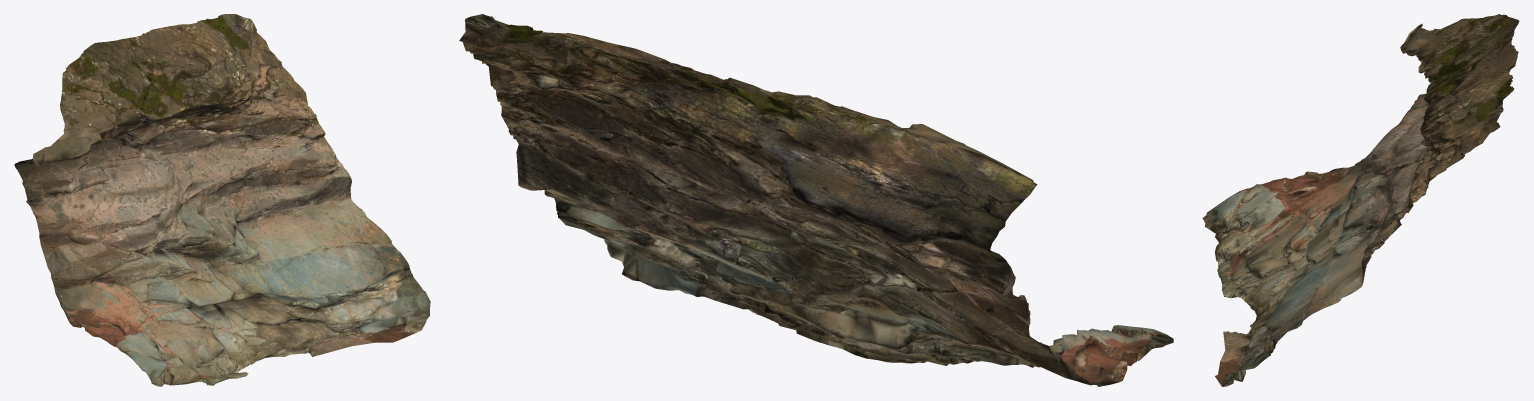
Rendered from rock_face_01.glb.
3 views of the same model, side by side, from view 1: azimuth 30°, elevation 25°; view 2: azimuth 150°, elevation 25°; view 3: azimuth 270°, elevation 25° (orthographic). The views are drawn at different scales.
Visible parts, largest first — view 1: rock_face_01; view 2: rock_face_01; view 3: rock_face_01.
Boxes of the visible parts, box(x1,y1,x2,y2) form: rock_face_01: box(14, 14, 430, 386); rock_face_01: box(459, 14, 1173, 386); rock_face_01: box(1202, 14, 1519, 386).
Bounding box in the file's own units: 4.95 × 3.56 × 3.83.
1 material, 1 textured.
